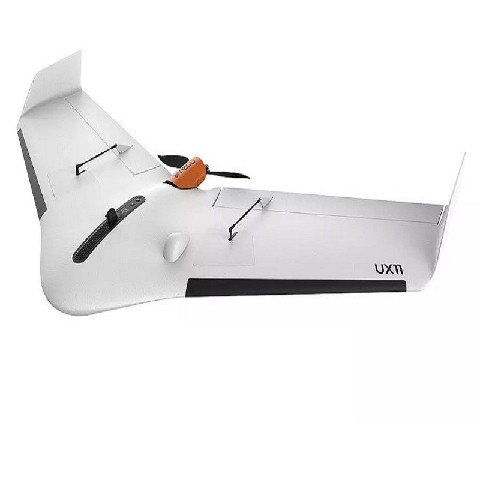maybay_khongnguoilai: (21, 49, 460, 320)
